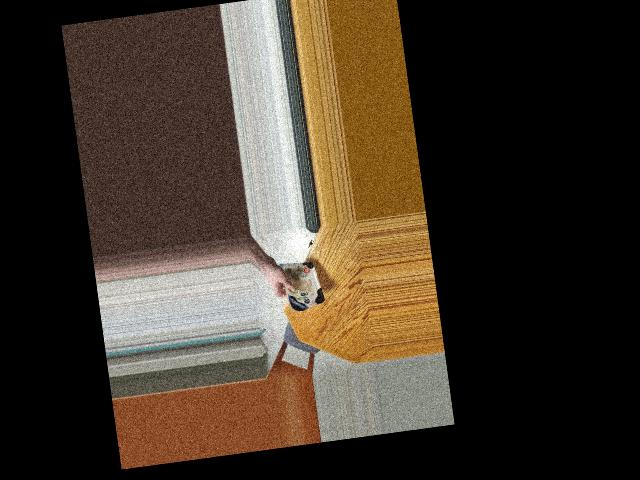cheese: (279, 248, 324, 314)
